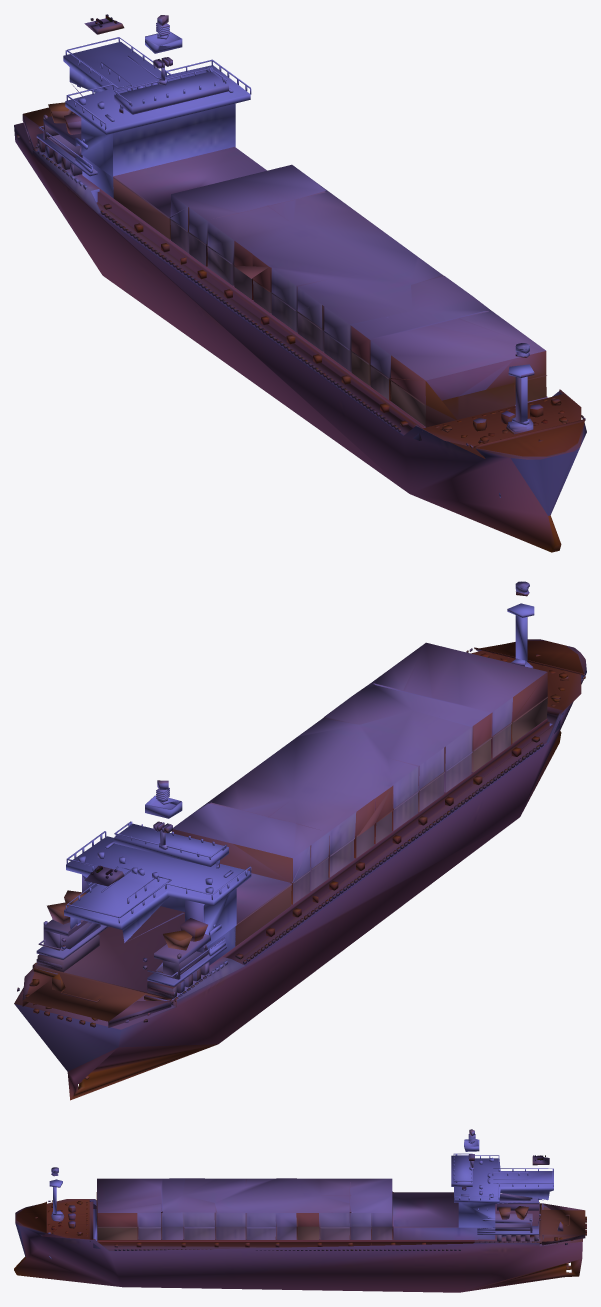
File: model.progressive.glb
The picture shows the model from 3 angles, top to bottom: view 1: azimuth 30°, elevation 25°; view 2: azimuth 150°, elevation 25°; view 3: azimuth 270°, elevation 25°; orthographic projection. The views are drawn at different scales.
Visible parts, largest first — view 1: material; view 2: material; view 3: material.
Part boxes in pixels (x1,y1,x2,y2): material: [14, 14, 586, 552]; material: [14, 581, 586, 1100]; material: [14, 1129, 586, 1292].
Size of the model in its own units: 0.3269 by 0.5297 by 1.89.
1 material, 1 textured.
